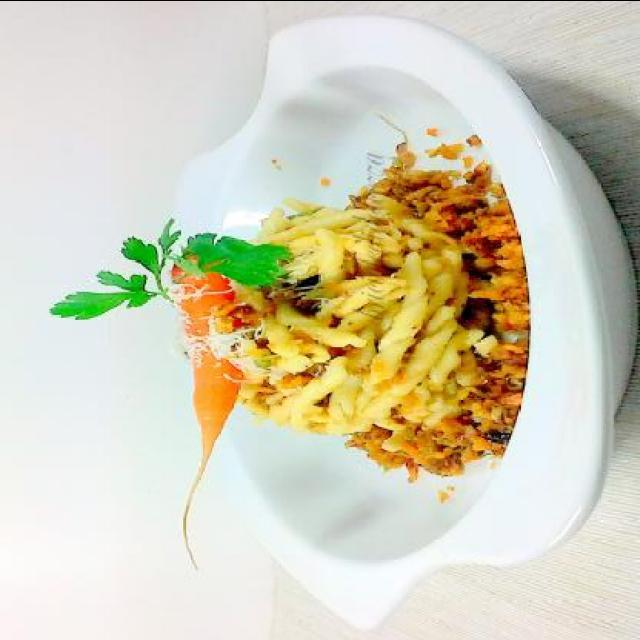Pasta al ragu: (123, 134, 529, 483)
